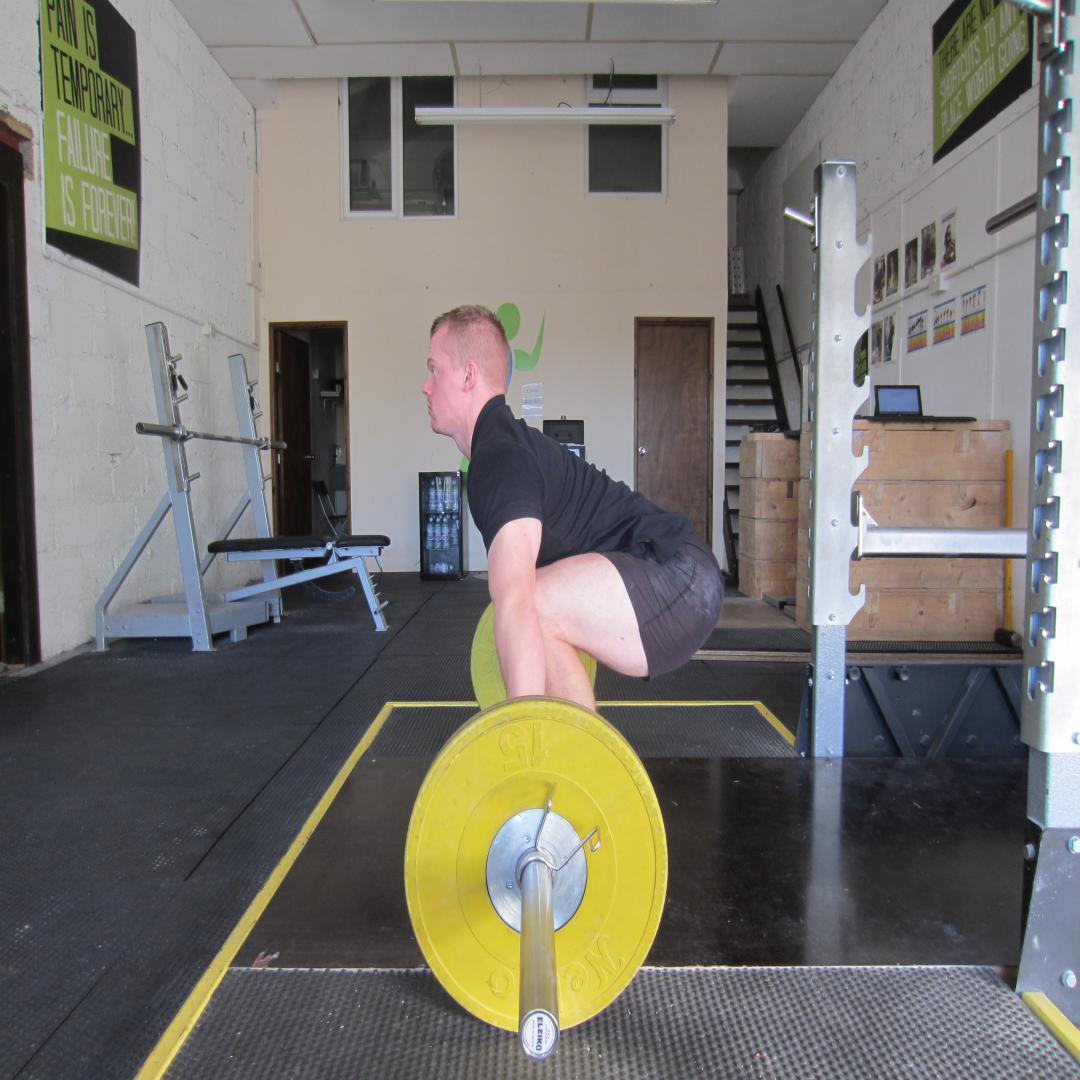Bar: (518, 1008, 559, 1064)
Barbell: (406, 703, 667, 1036)
